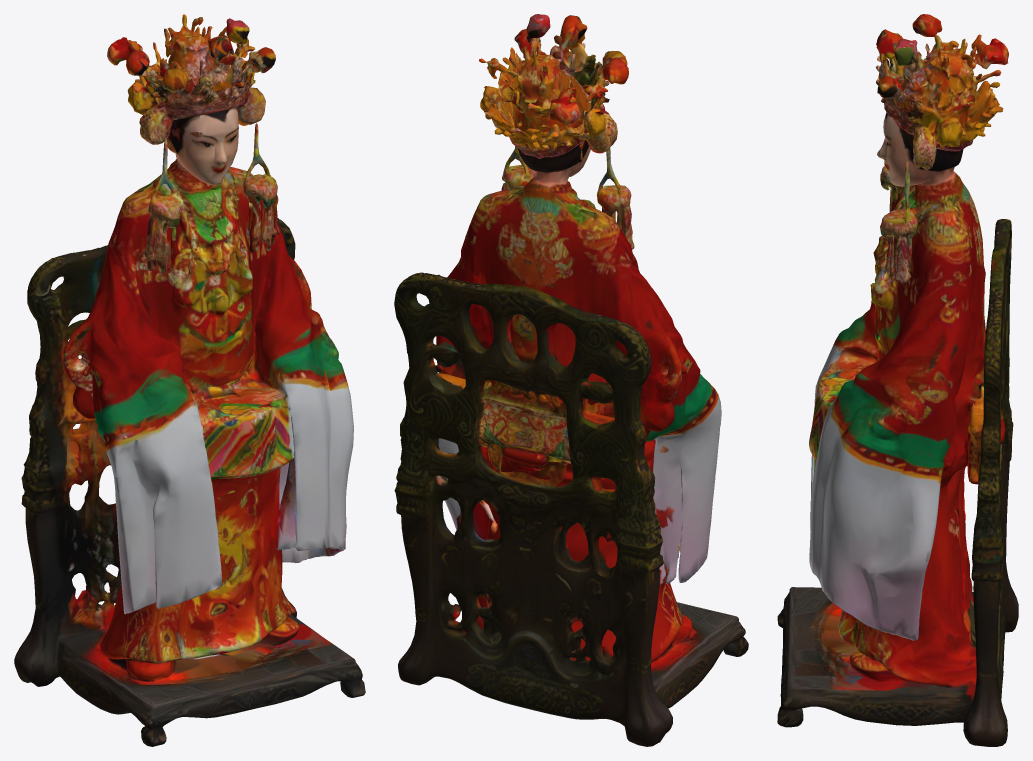
The picture shows the model from 3 angles, left to right: view 1: azimuth 30°, elevation 25°; view 2: azimuth 150°, elevation 25°; view 3: azimuth 270°, elevation 25°; orthographic projection.
Visible parts, largest first — view 1: QH-龙母; view 2: QH-龙母; view 3: QH-龙母.
Part boxes in pixels (left/top/right/bottom): QH-龙母: left=14, top=14, right=365, bottom=746; QH-龙母: left=394, top=14, right=748, bottom=746; QH-龙母: left=777, top=14, right=1018, bottom=746.
Size of the model in its own units: 0.3582 by 0.2704 by 0.8184.
